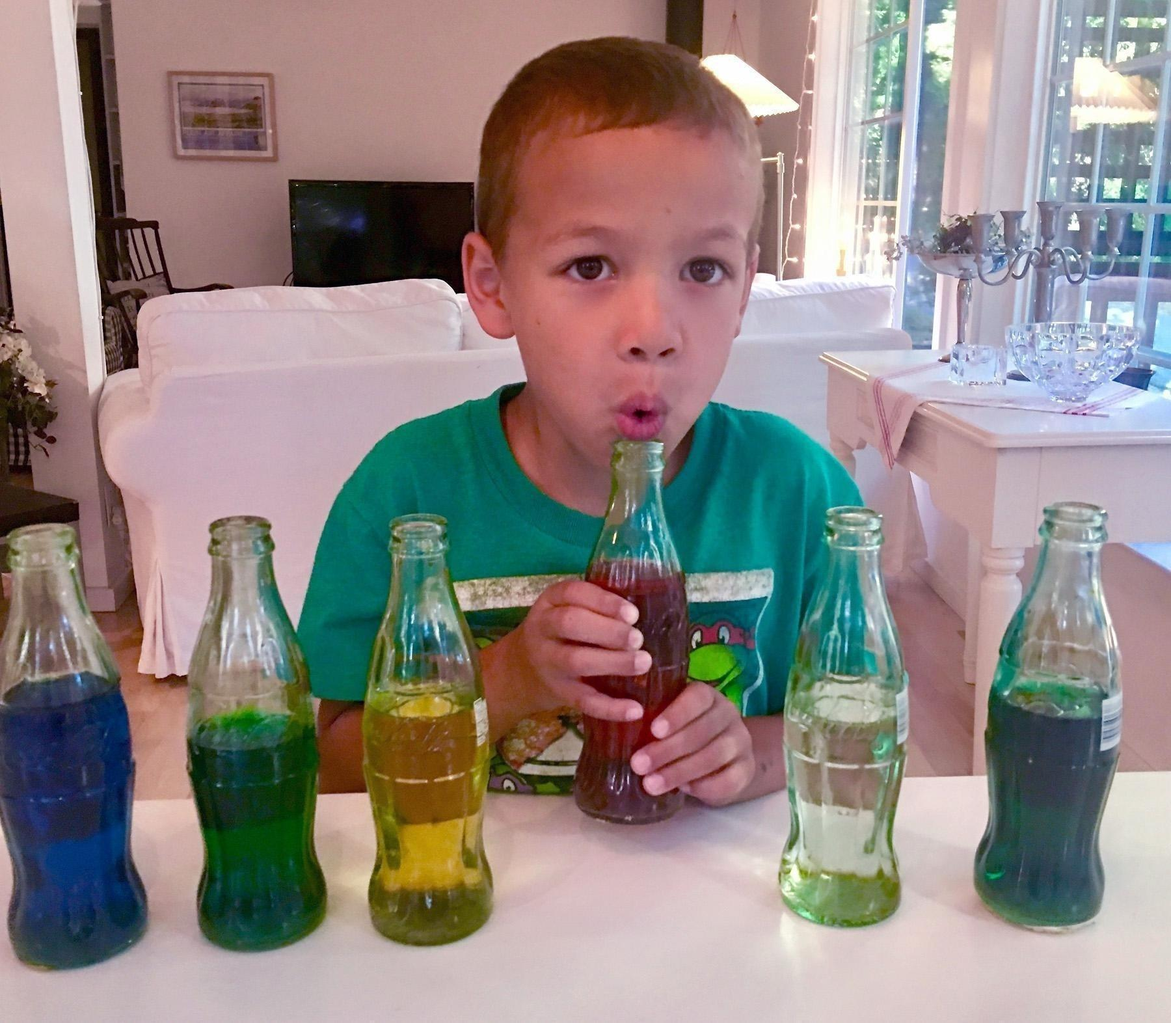bottle-glass: (0, 518, 154, 972), (971, 494, 1129, 929), (181, 513, 331, 953), (356, 513, 502, 948), (777, 506, 914, 929), (574, 436, 692, 825)
